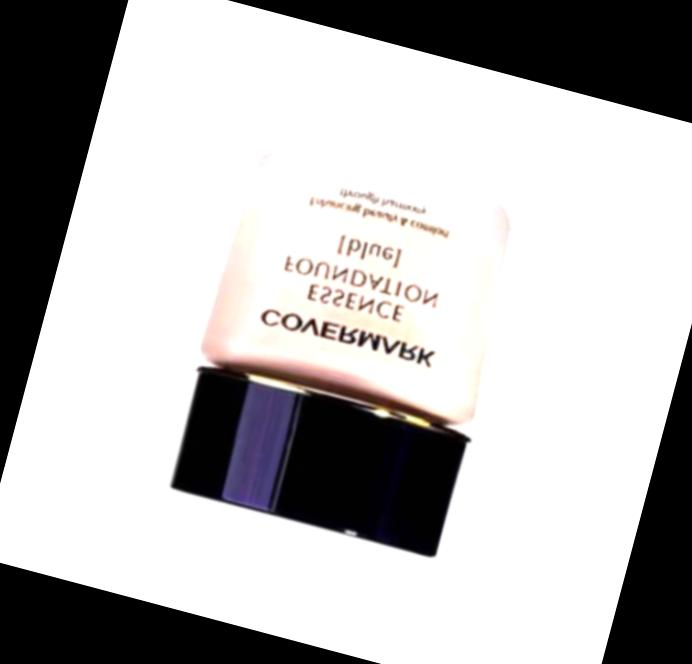cosmetic: (161, 133, 533, 560)
